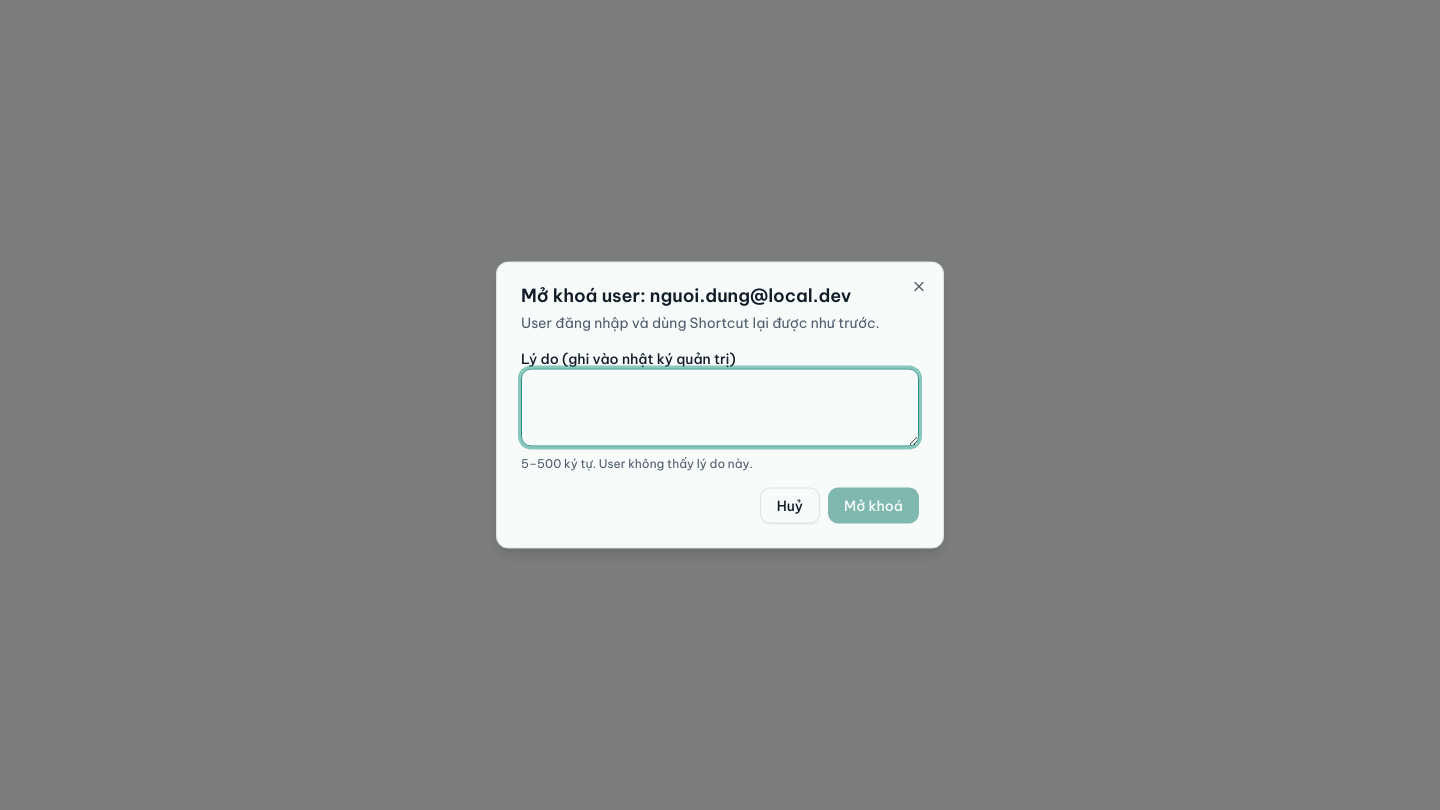
Scenario: AdminActionDialog — gửi › ban_failed khi MỞ khoá -> thông điệp đúng chiều (user vẫn chưa đăng nhập được)
Type "đã xác minh lại" into the text box labelled "Lý do (ghi vào nhật ký quản trị)" at (720, 408), box x1=521 y1=368 x2=919 y2=446
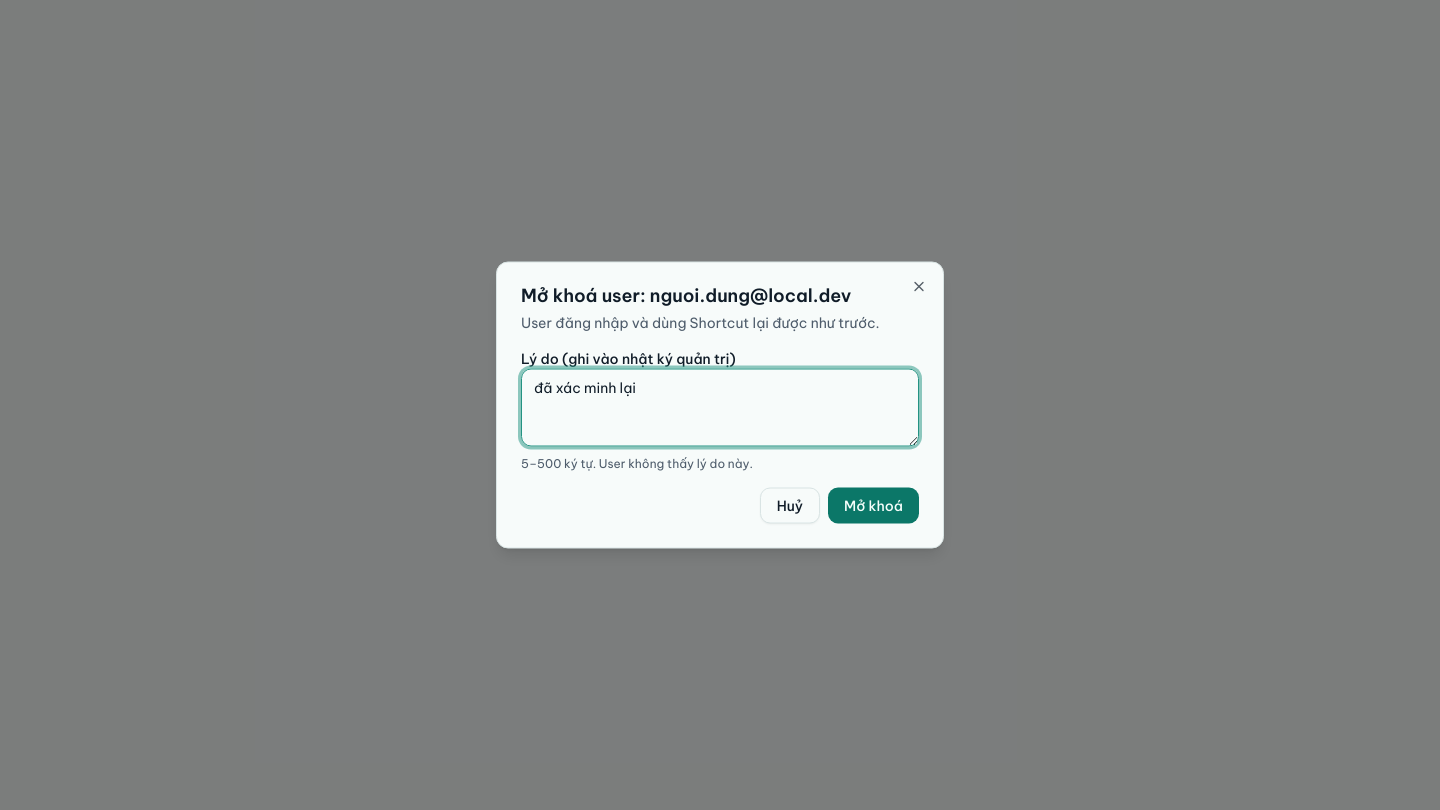
Click the button "Mở khoá" at (874, 506), box x1=828 y1=488 x2=919 y2=524
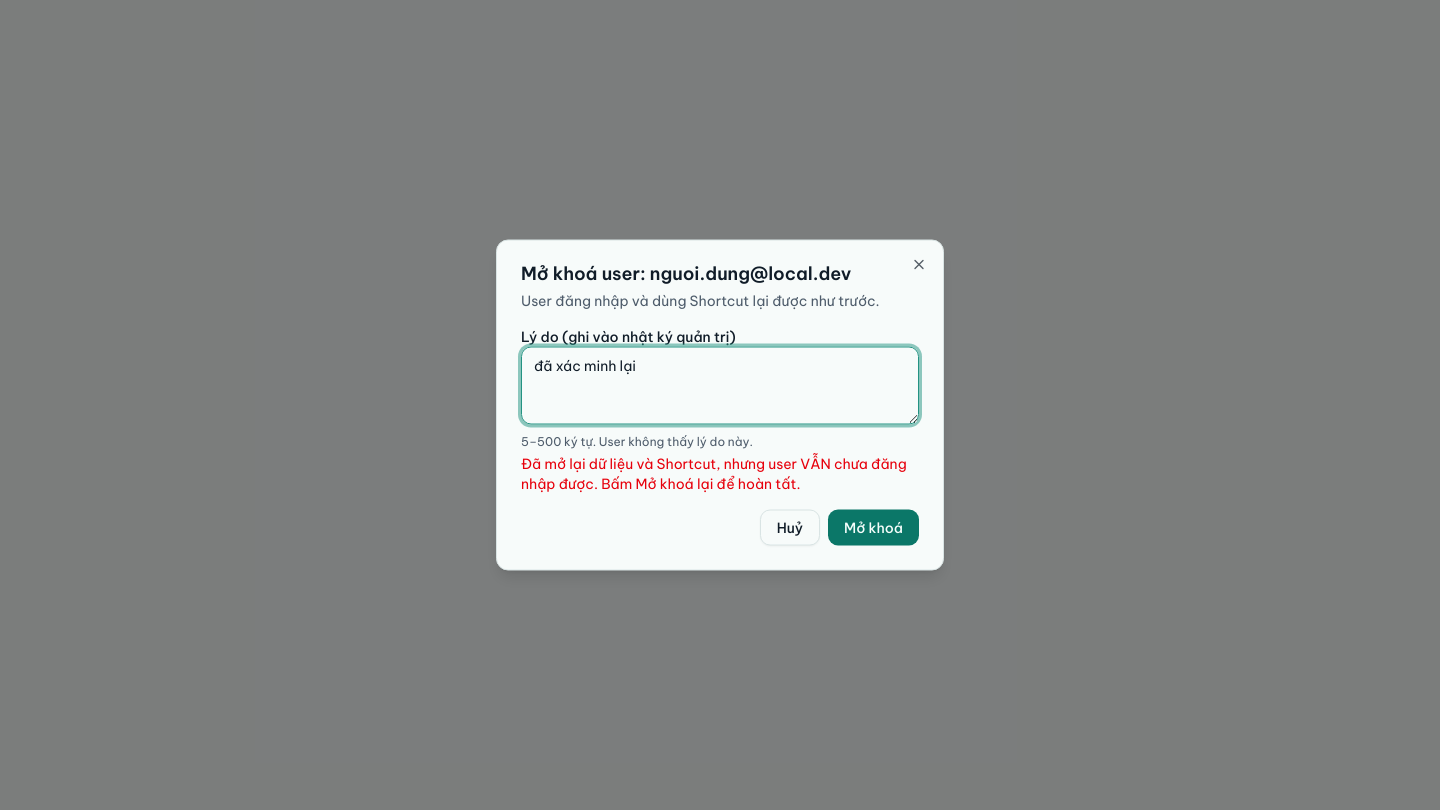
Expected: the message does not show "CHƯA chặn được đăng nhập", x1=521 y1=454 x2=919 y2=494
Expected: the message shows "VẪN chưa đăng nhập được", x1=521 y1=454 x2=907 y2=492
